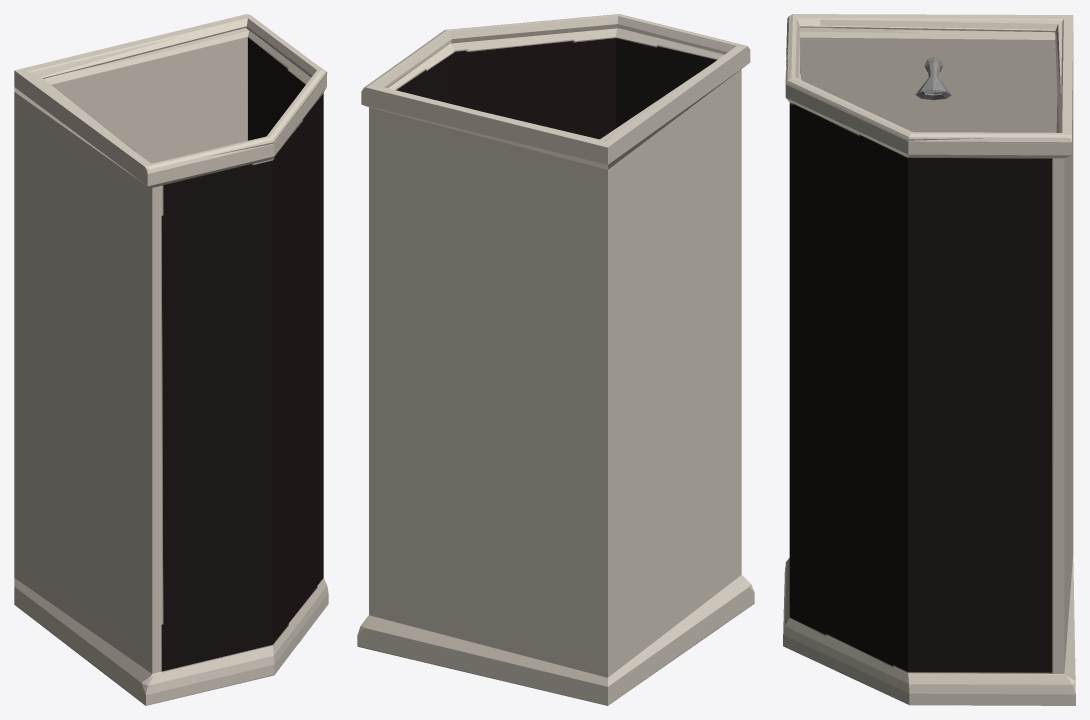
Rendered from Shower.glb.
The picture shows the model from 3 angles, left to right: view 1: azimuth 30°, elevation 25°; view 2: azimuth 150°, elevation 25°; view 3: azimuth 270°, elevation 25°; orthographic projection. The views are drawn at different scales.
Visible parts, largest first — view 1: Shower; view 2: Shower; view 3: Shower.
Part boxes in pixels (bbox=[...]): Shower: bbox=[14, 14, 328, 705]; Shower: bbox=[357, 14, 754, 705]; Shower: bbox=[783, 14, 1075, 705].
Bounding box in the file's own units: 20.34 × 42.81 × 20.
Materials: 1 (1 with a texture image).
